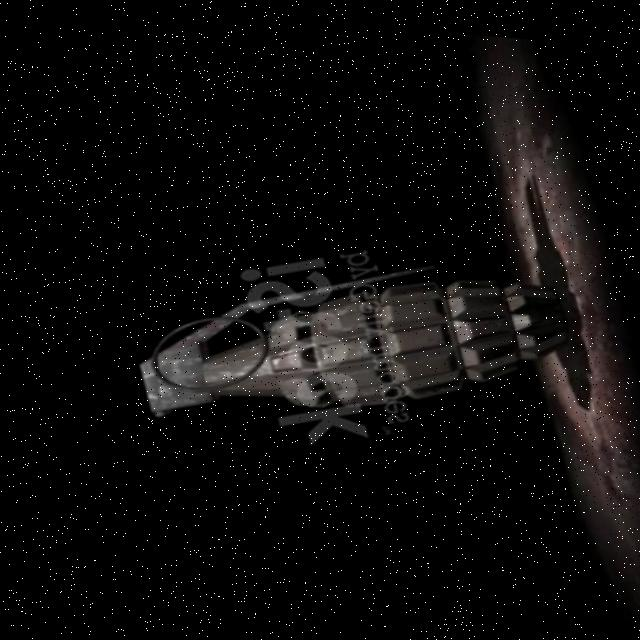grenade: (120, 211, 576, 473)
